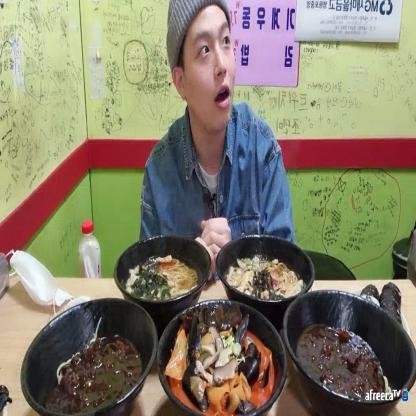streamer: (140, 0, 294, 289)
